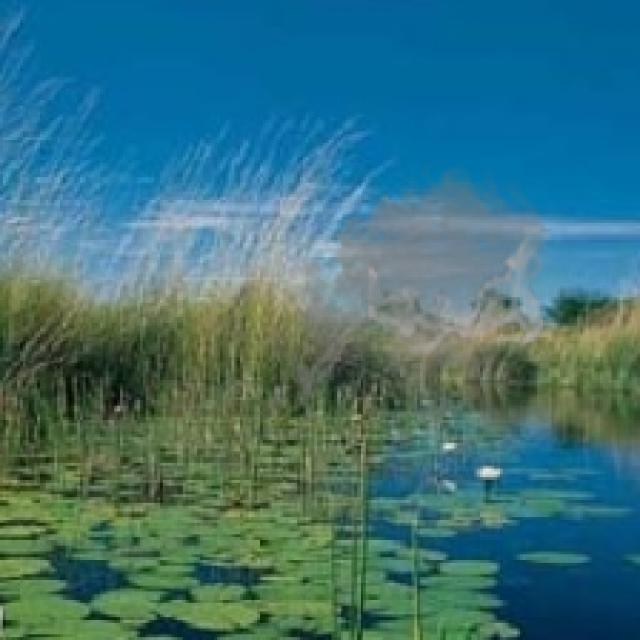smoke: (283, 154, 554, 429)
